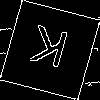K: (25, 24, 71, 78)
